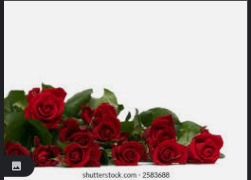RedRose: (25, 84, 68, 128), (189, 132, 225, 165), (110, 139, 148, 169), (145, 115, 176, 146), (152, 140, 190, 165), (89, 117, 125, 143), (33, 139, 62, 166), (60, 142, 88, 168)
